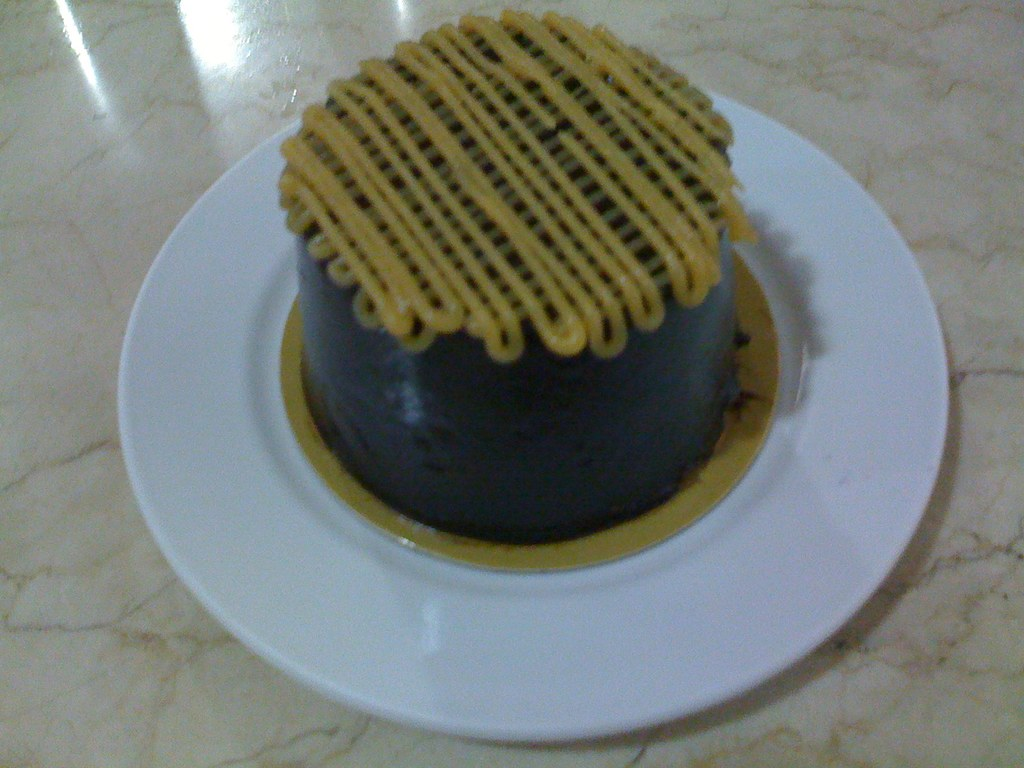cake: (272, 8, 759, 547)
